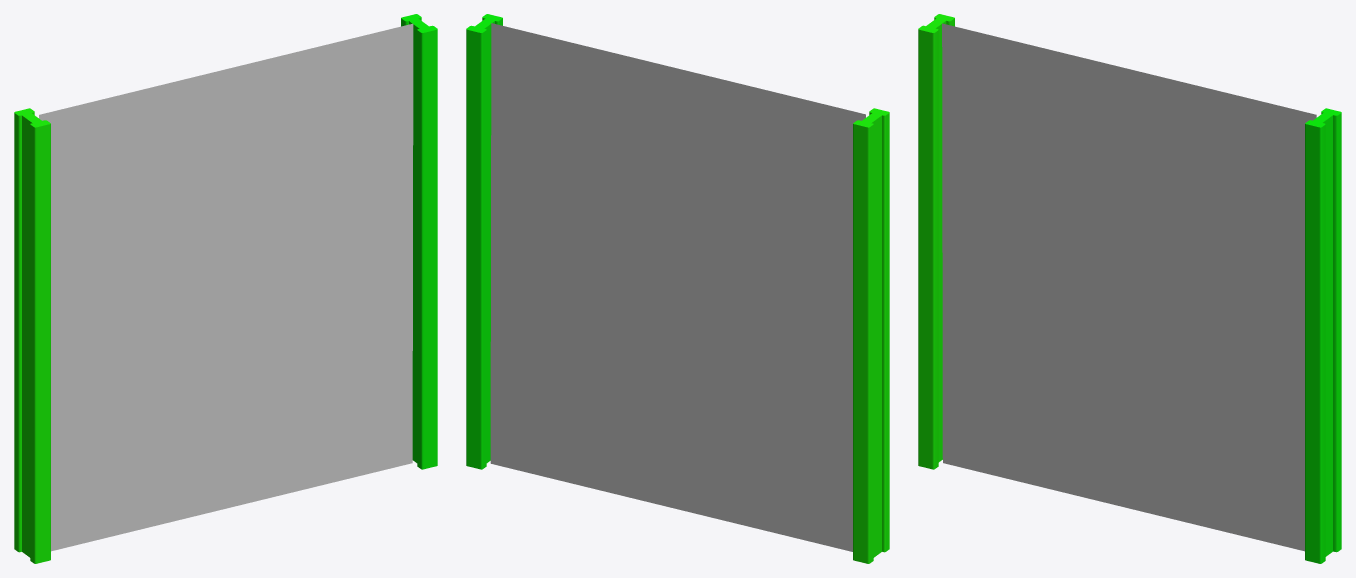
The picture shows the model from 3 angles, left to right: view 1: azimuth 30°, elevation 25°; view 2: azimuth 150°, elevation 25°; view 3: azimuth 330°, elevation 25°; orthographic projection.
Parts seen in each view (by area): view 1: Plane, Cube, Cube.001; view 2: Plane, Cube, Cube.001; view 3: Plane, Cube.001, Cube.
Part boxes in pixels (bbox=[...]): Plane: bbox=[39, 23, 413, 551]; Cube: bbox=[14, 108, 50, 563]; Cube.001: bbox=[401, 14, 437, 469]; Plane: bbox=[490, 23, 865, 551]; Cube: bbox=[853, 108, 889, 563]; Cube.001: bbox=[466, 14, 502, 469]; Plane: bbox=[942, 23, 1316, 551]; Cube.001: bbox=[1305, 108, 1341, 563]; Cube: bbox=[918, 14, 954, 469].
Size of the model in its own units: 248 by 259 by 22.73.
